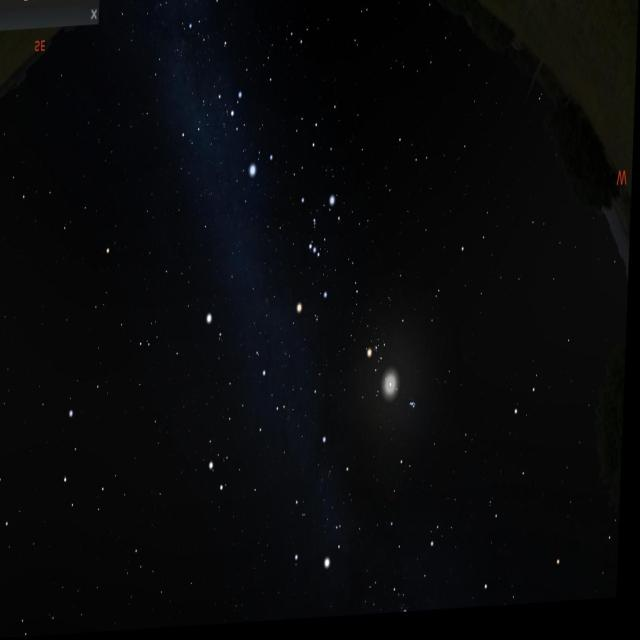canis_major: (223, 84, 283, 192)
canis_minor: (208, 300, 232, 348)
gemini: (212, 360, 291, 498)
moon: (383, 372, 403, 410)
orion: (291, 183, 346, 331)
pleiades: (408, 397, 423, 422)
taurus: (364, 325, 431, 442)
